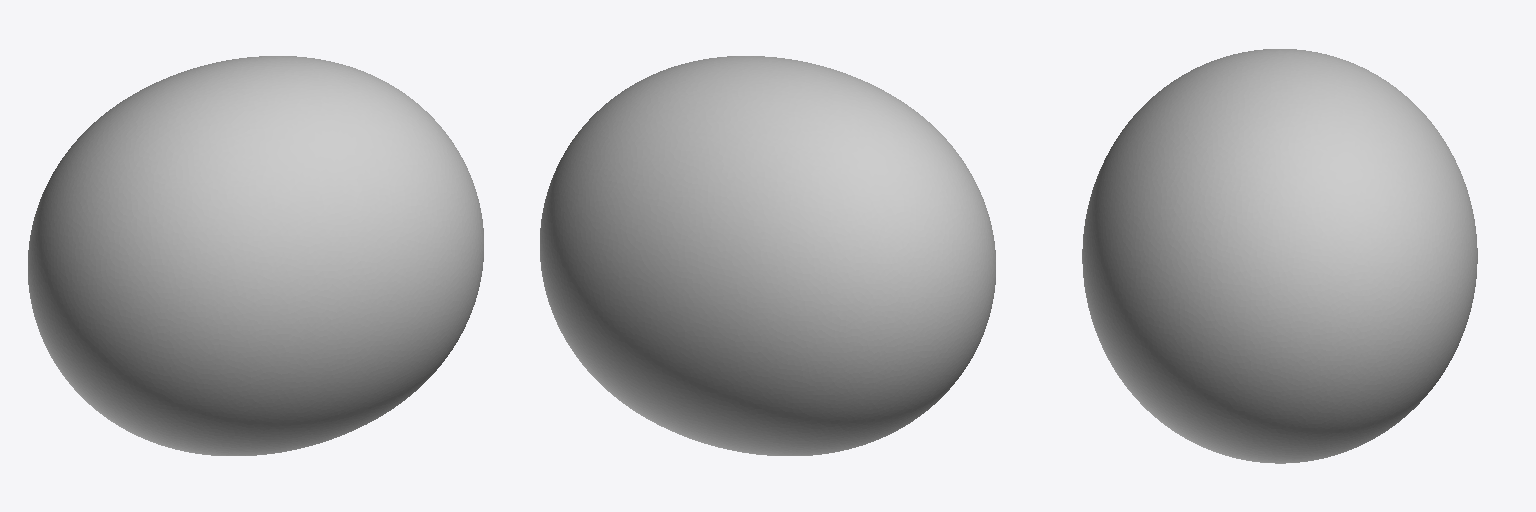
The model's file is melon_head.obj.
The picture shows the model from 3 angles: view 1: azimuth 30°, elevation 25°; view 2: azimuth 150°, elevation 25°; view 3: azimuth 270°, elevation 25°; orthographic projection.
Parts seen in each view (by area): view 1: model_2.001; view 2: model_2.001; view 3: model_2.001.
Boxes of the visible parts, x1,y1,x2,y2 form: model_2.001: [28, 56, 483, 455]; model_2.001: [540, 56, 995, 455]; model_2.001: [1082, 49, 1477, 463].
Bounding box in the file's own units: 649 × 544 × 544.